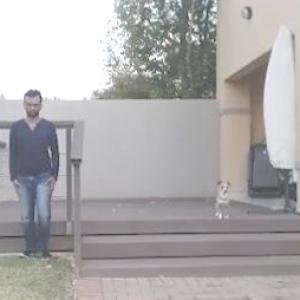follow: (8, 80, 62, 272)
